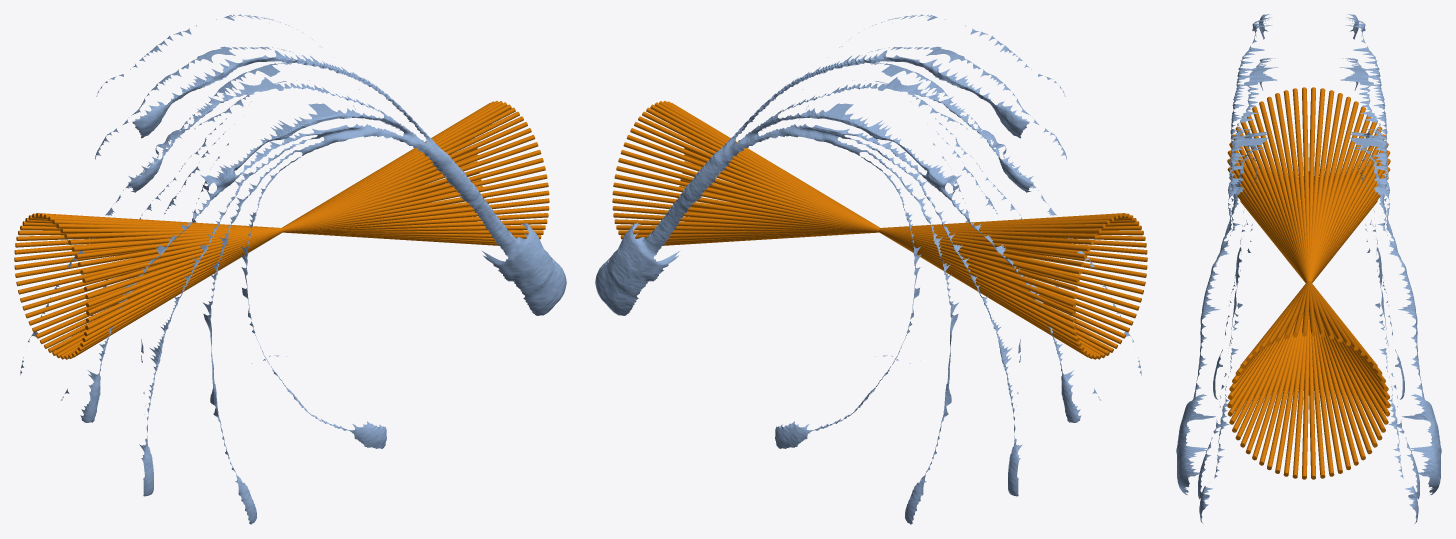
Rendered from A60025774_6150-37-520-2023_DigitalTwin.glb.
The picture shows the model from 3 angles, left to right: view 1: azimuth 30°, elevation 25°; view 2: azimuth 150°, elevation 25°; view 3: azimuth 270°, elevation 25°; orthographic projection. The views are drawn at different scales.
Visible parts, largest first — view 1: world; view 2: world; view 3: world.
Boxes of the visible parts, x1,y1,x2,y2 form: world: [14, 14, 566, 524]; world: [595, 14, 1147, 524]; world: [1176, 14, 1441, 523].
Size of the model in its own units: 466 by 424 by 213.
